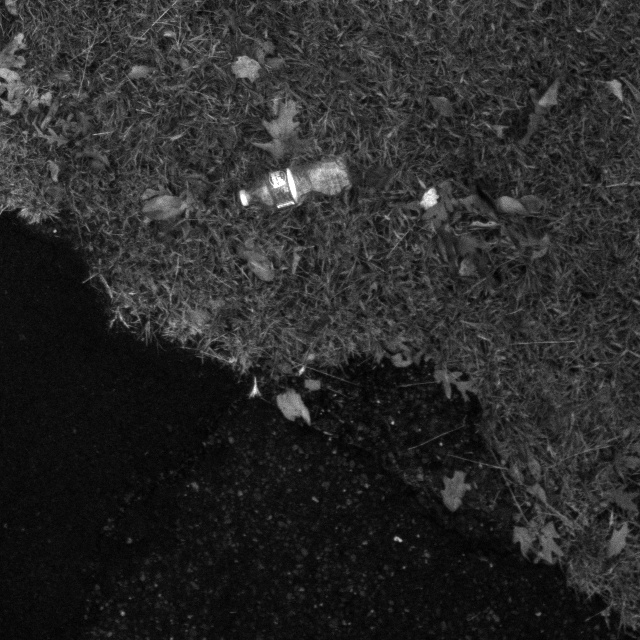bottle: (214, 137, 358, 236)
